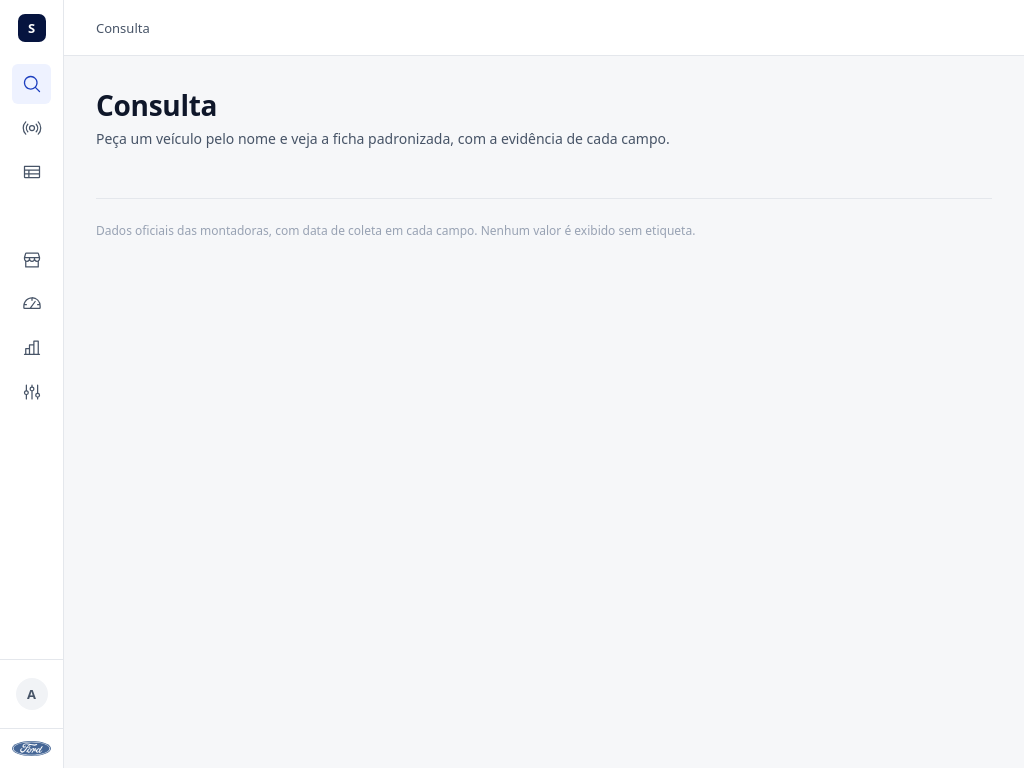
Test: o papel de quem olha fica na barra, e troca ali mesmo › o menu abre com os quatro papeis e o que cada um faz
The width and height of the screenshot is (1024, 768).
What coordinates should you click on to do the following:
click the button with test id "trocar-papel"
I would click on:
 (32, 694)
Its box is x1=12 y1=672 x2=51 y2=716.
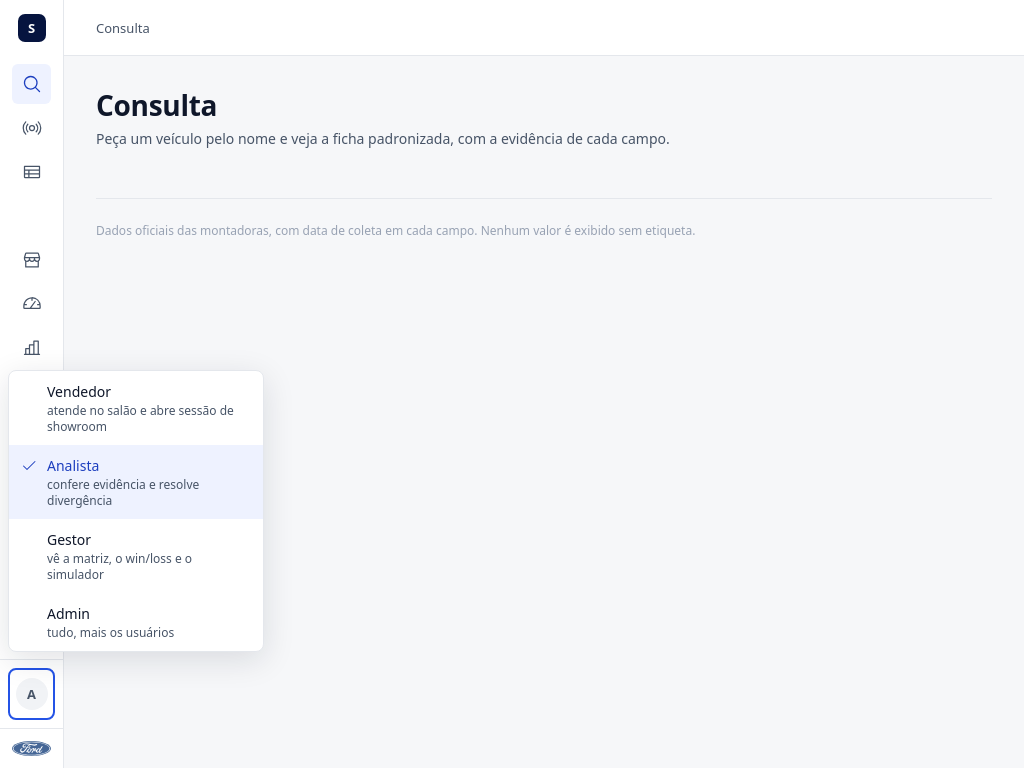
Result: the menu with test id "lista-de-papeis" shows "Vendedor" at x1=9 y1=371 x2=263 y2=445
Result: the menu with test id "lista-de-papeis" shows "atende no salão e abre sessão de showroom" at x1=9 y1=371 x2=263 y2=445
Result: the menu with test id "lista-de-papeis" shows "Analista" at x1=9 y1=445 x2=263 y2=519
